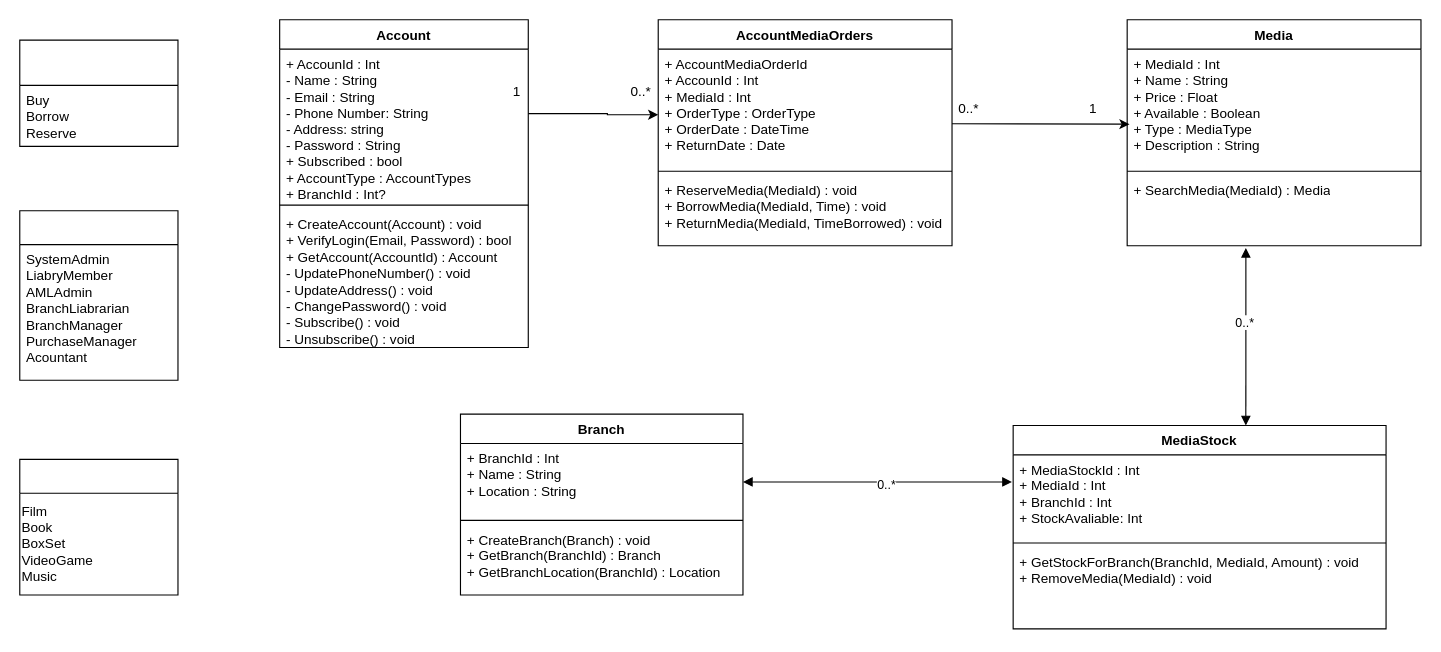
Some shapes in this 1441 by 652 pixel diagram are drawn without their labels. Here are the shapes that lost their labels. From the top down, the box of each, then its label:
(19, 39, 178, 146): <<emnumaration>> OrderType
(19, 210, 178, 380): <<emumaration>> AccountTypes
(19, 458, 178, 595): <<emumaration>> MediaType
